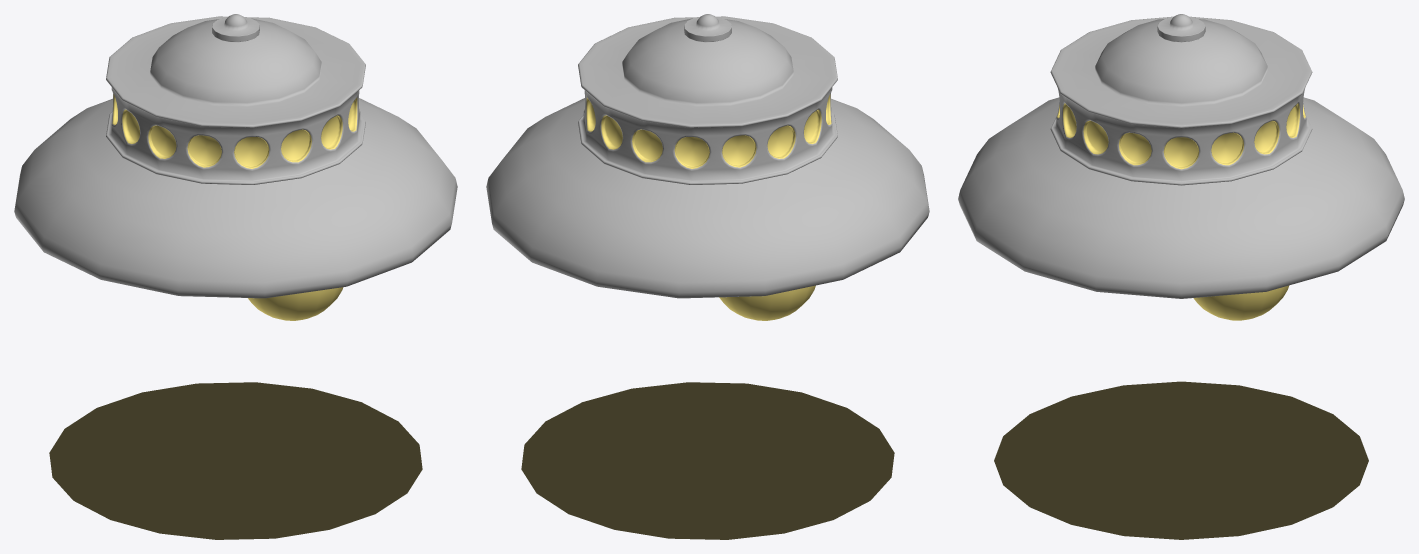
File: ufo.fbx
3 renders of one model, left to right at view 1: azimuth 30°, elevation 25°; view 2: azimuth 150°, elevation 25°; view 3: azimuth 270°, elevation 25°, orthographic.
Parts seen in each view (by area): view 1: light_mdl_04; view 2: light_mdl_04; view 3: light_mdl_04.
Part boxes in pixels (<box>): light_mdl_04: <box>14,14,457,539</box>; light_mdl_04: <box>486,14,929,539</box>; light_mdl_04: <box>958,14,1404,539</box>.
Size of the model in its own units: 3.96 by 4.36 by 3.96.
Materials: 1 (1 with a texture image).
